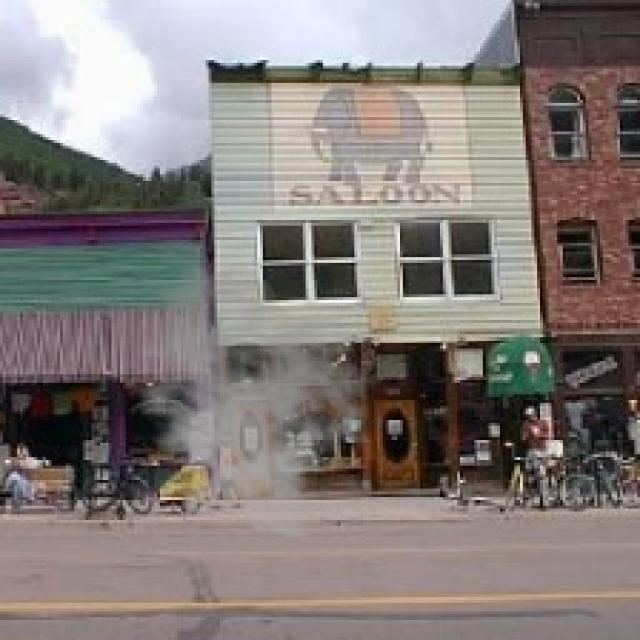smoke: (111, 260, 380, 540)
